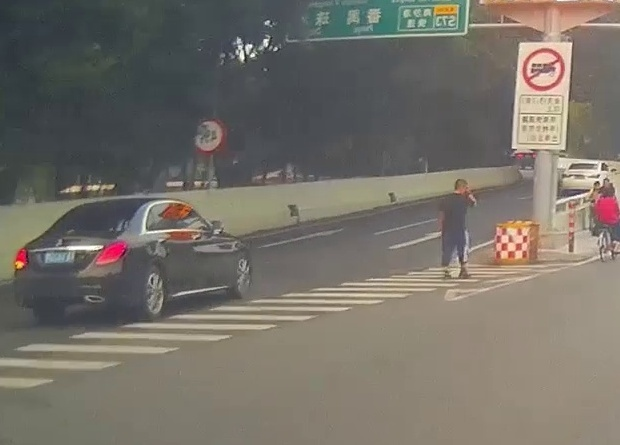L_light: (14, 247, 28, 270)
R_light: (95, 240, 127, 265)
T_light: (95, 206, 114, 209)
day-left: (11, 198, 146, 320)
